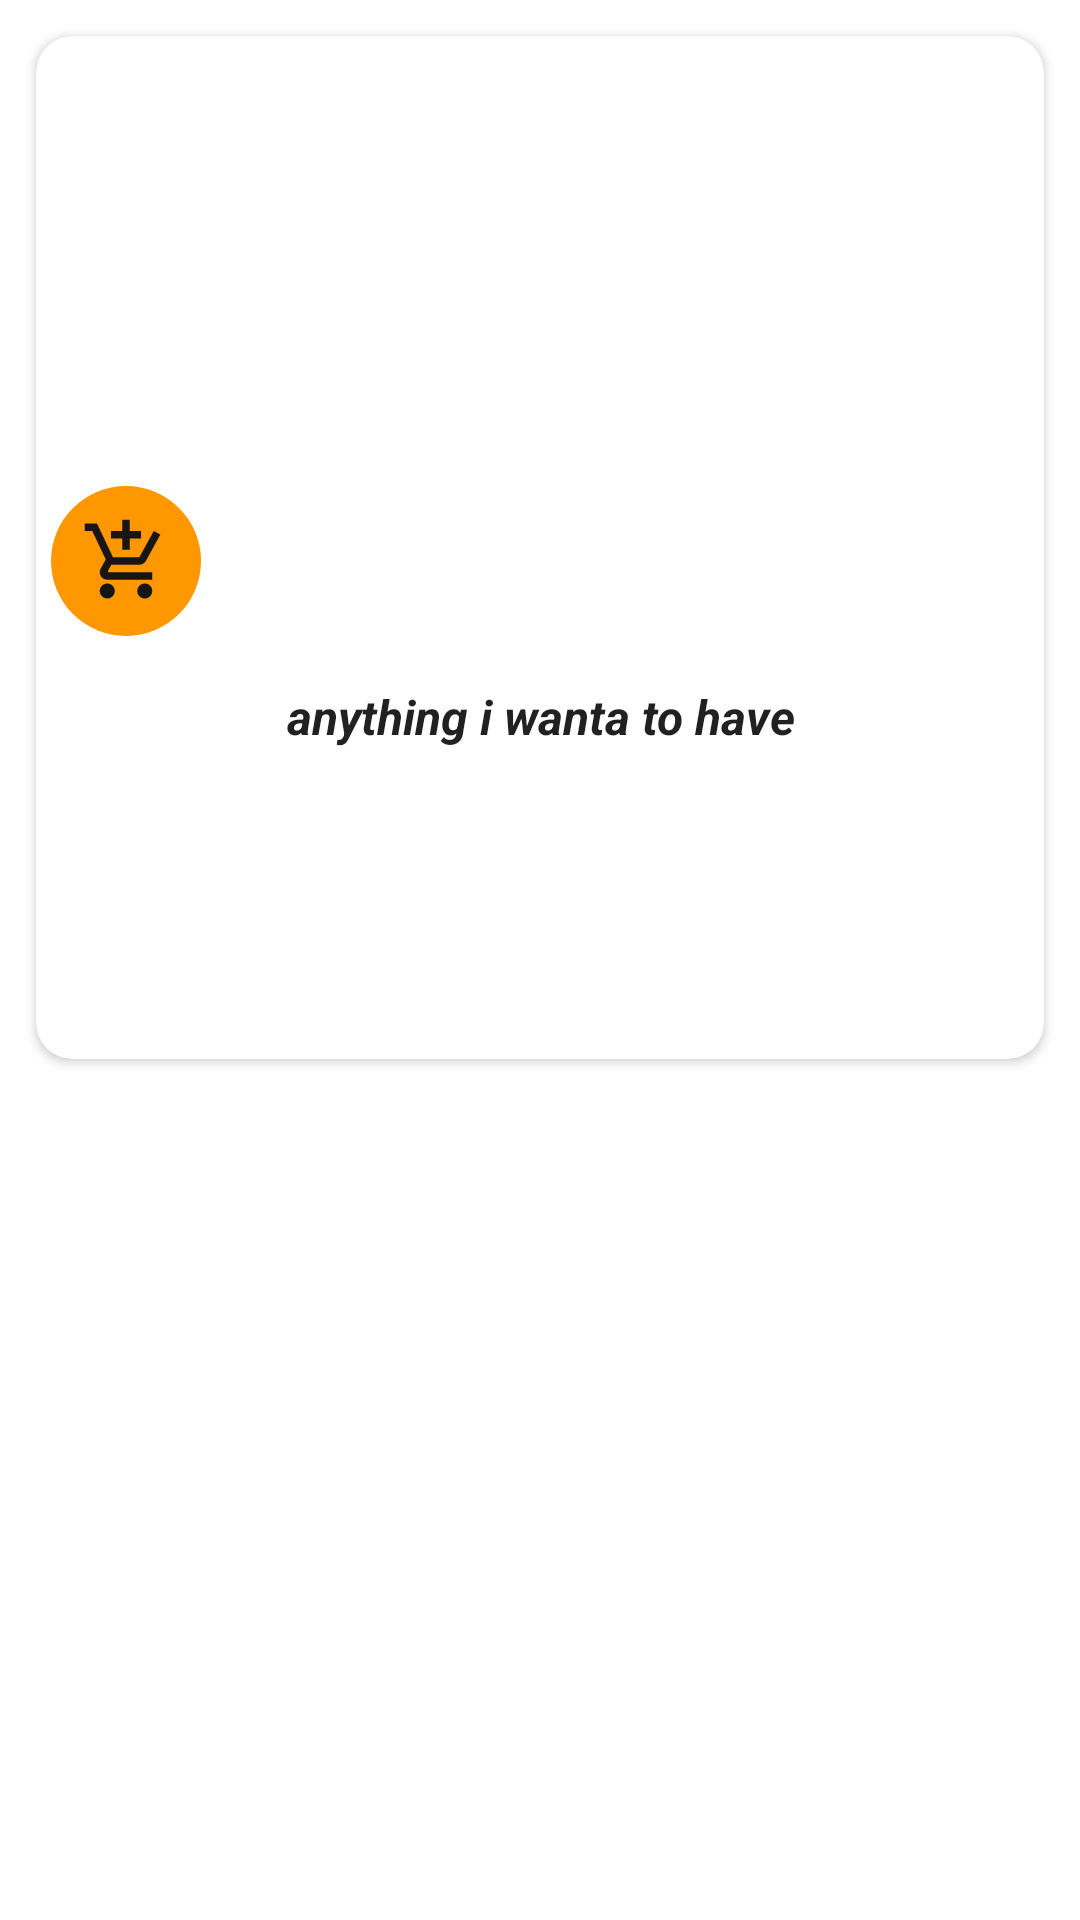

Where to tap for icons on this 1080x1920 app screen, as point (x, y):
shoppping cart: point (126, 561)
